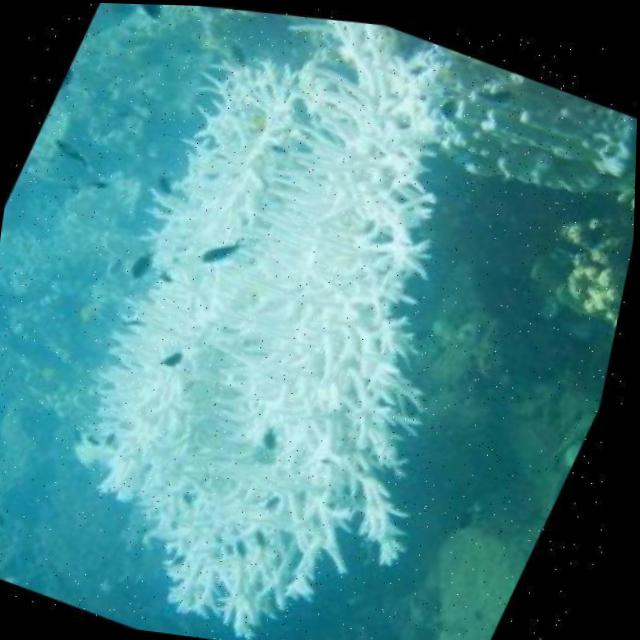Bleached Coral: (51, 2, 483, 640)
